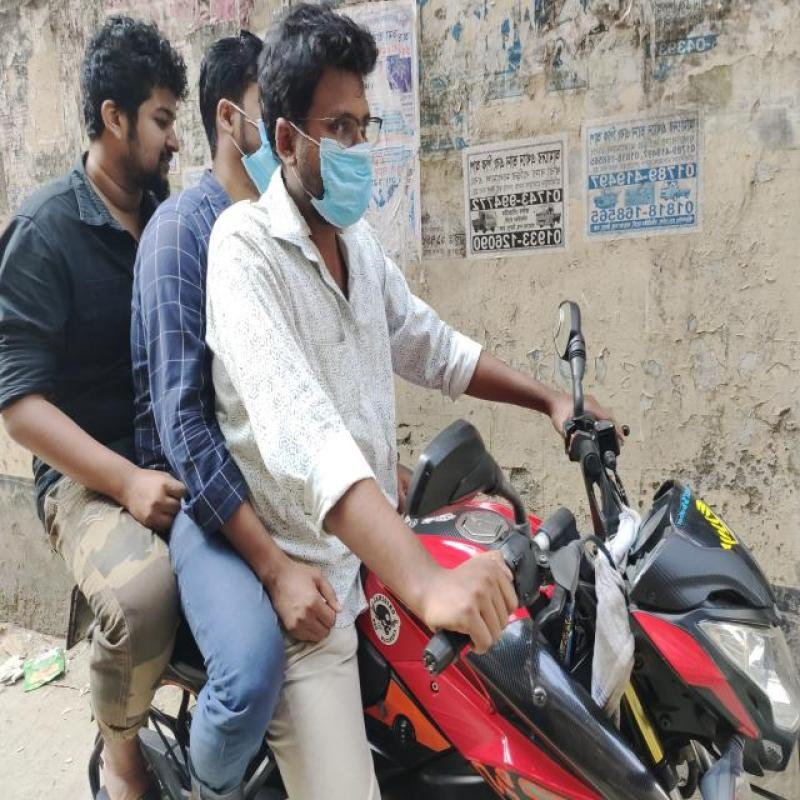nohelmet: (244, 3, 406, 237)
